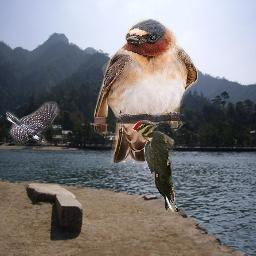Swallow: (94, 18, 198, 164)
Woodpecker: (132, 120, 179, 214), (6, 101, 60, 146)
